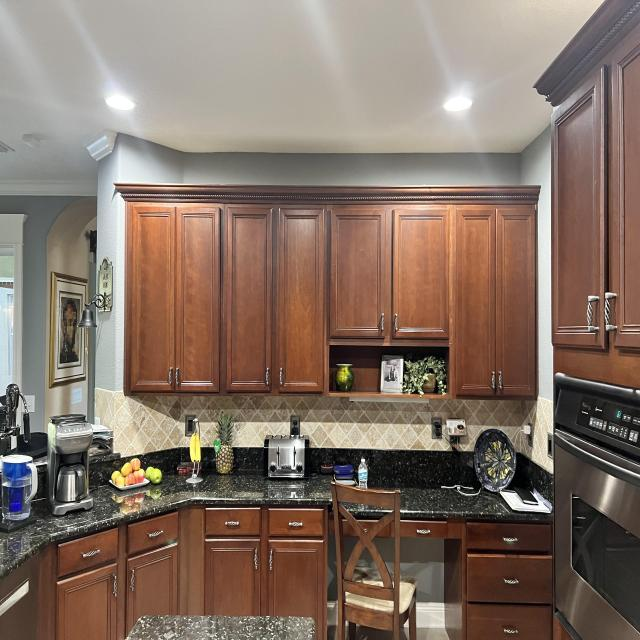Appliance_Oven: (554, 374, 640, 640)
Cabinet_Flat: (400, 521, 555, 640), (59, 507, 323, 576)
Cabinet_Shaker: (126, 203, 536, 400), (550, 45, 640, 392), (55, 539, 327, 640)
Countertop_Granite: (0, 471, 331, 577), (125, 616, 315, 640), (402, 488, 518, 521)
